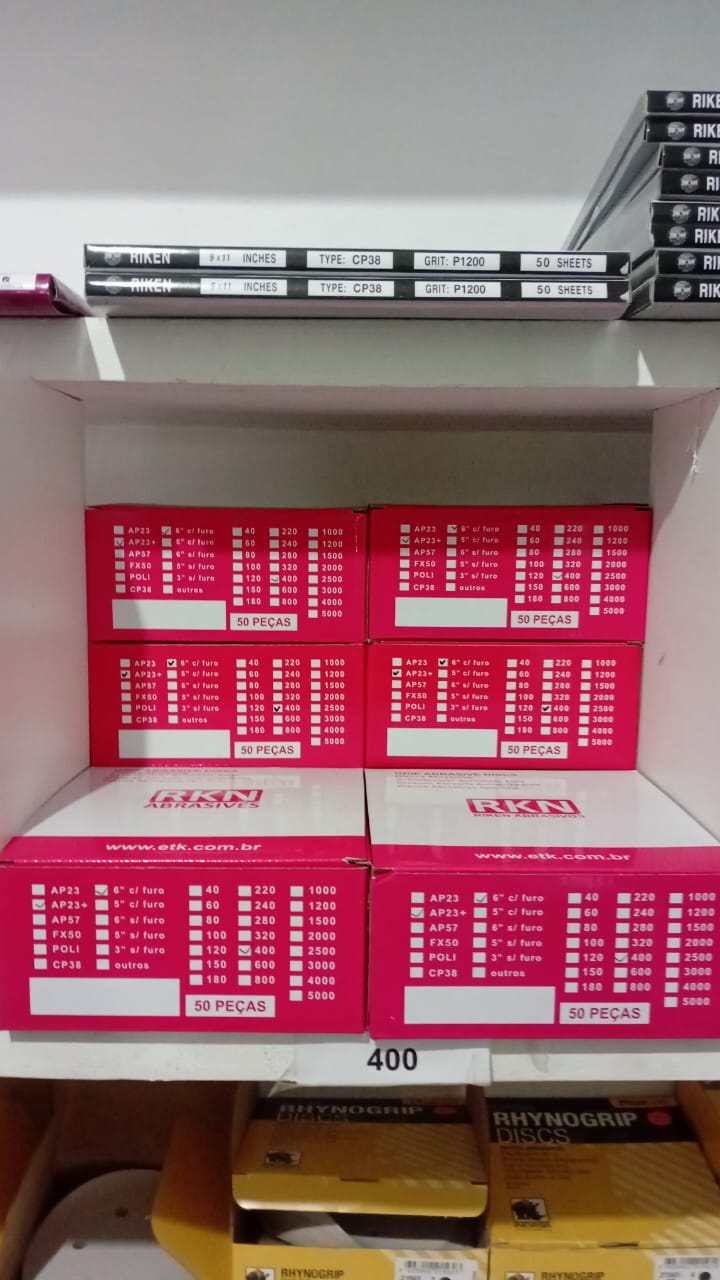grao: (410, 246, 506, 275), (410, 273, 506, 302)
objects: (8, 377, 709, 1072), (75, 225, 649, 325)
